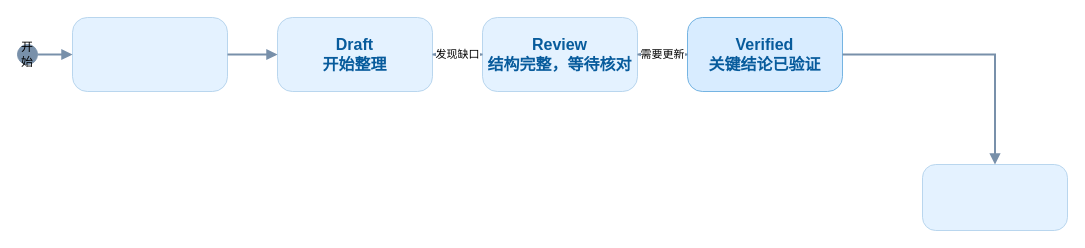
Some shapes in this 1085 by 248 pixel diagram are drawn without their labels. The centre of each missing label's shape, as x and y in pixels:
"Archived" goes at (995,197).
"Capture 记录资料、问题或想法" goes at (150,54).
